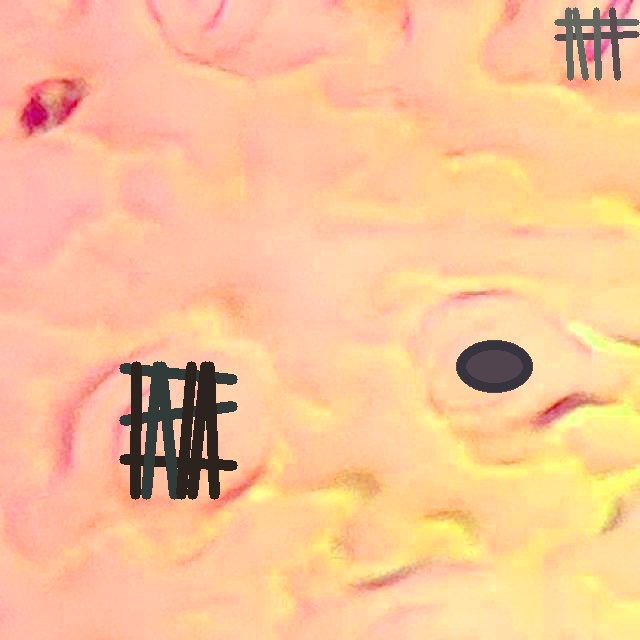close: (120, 362, 237, 498), (456, 340, 533, 393)
open: (554, 7, 640, 80)
